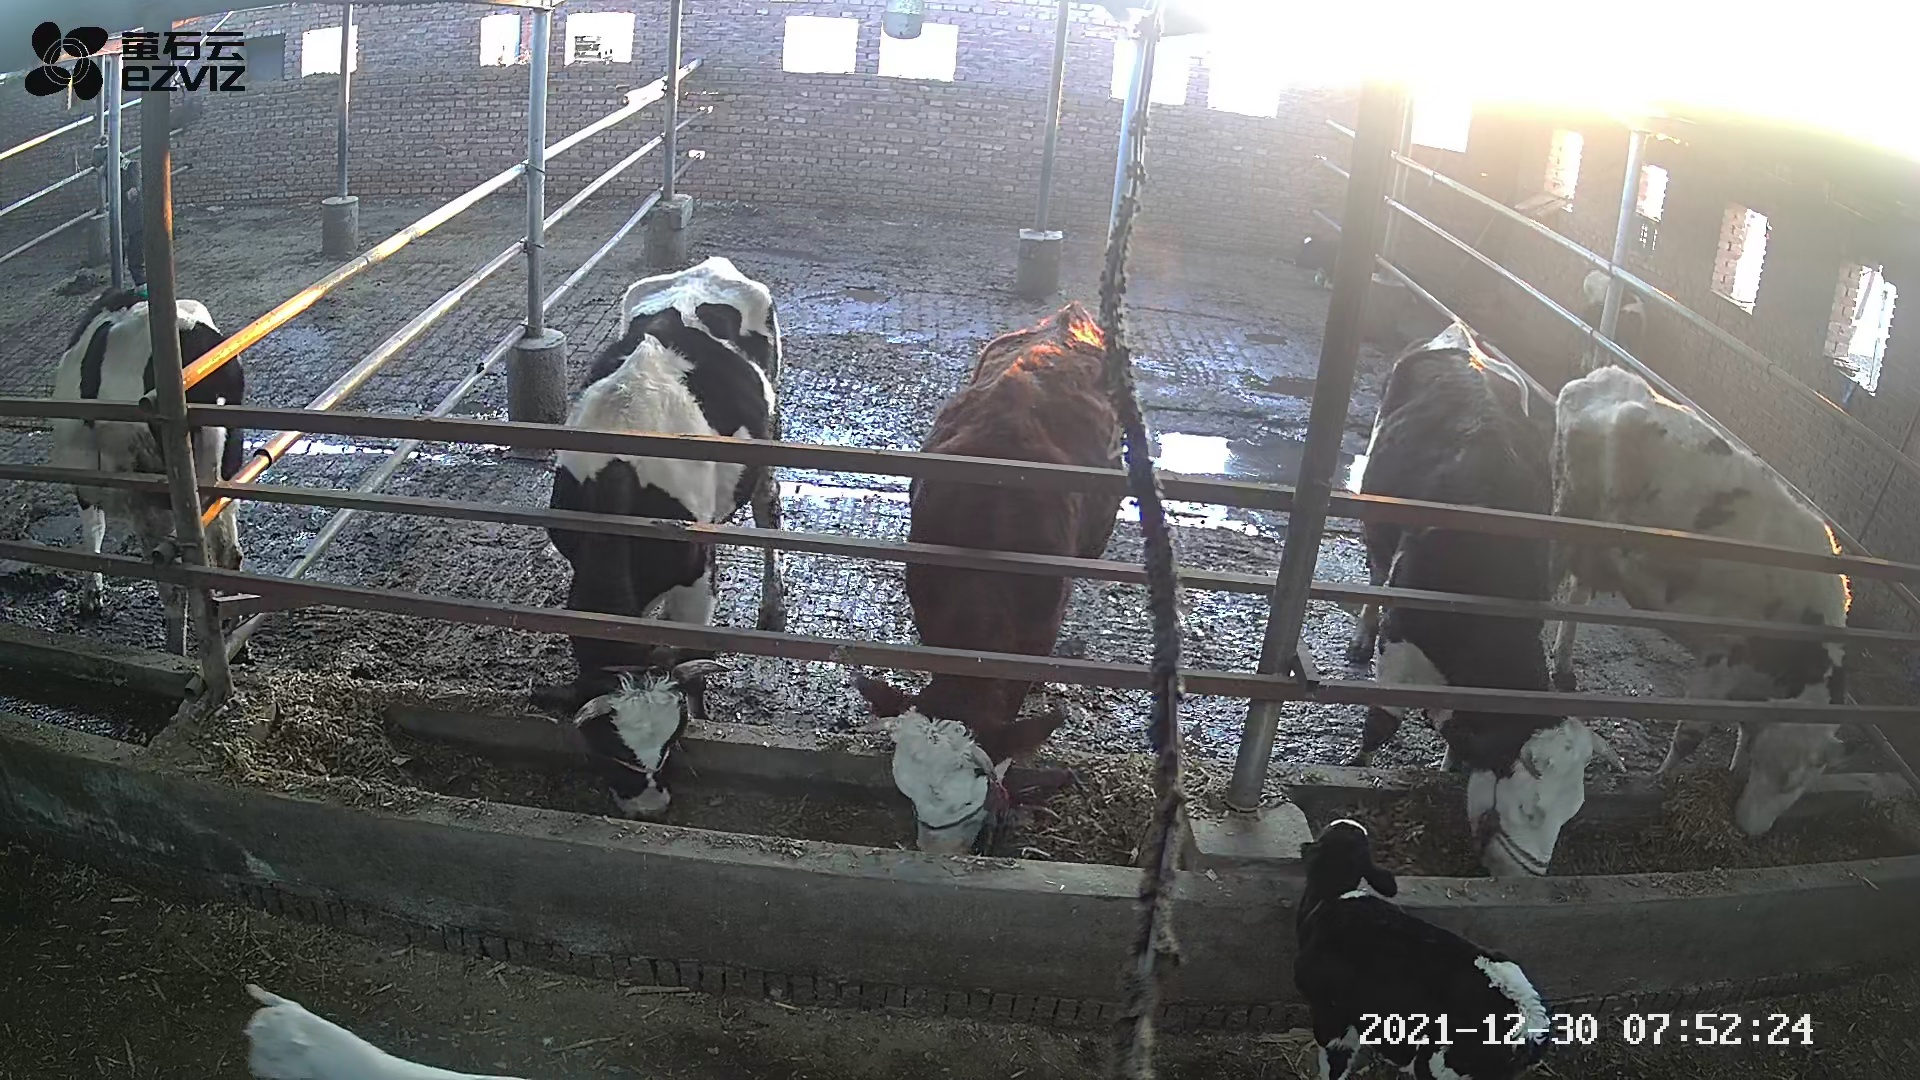cow: (1336, 315, 1629, 880), (851, 298, 1126, 857), (1547, 363, 1853, 843), (541, 253, 793, 822)
